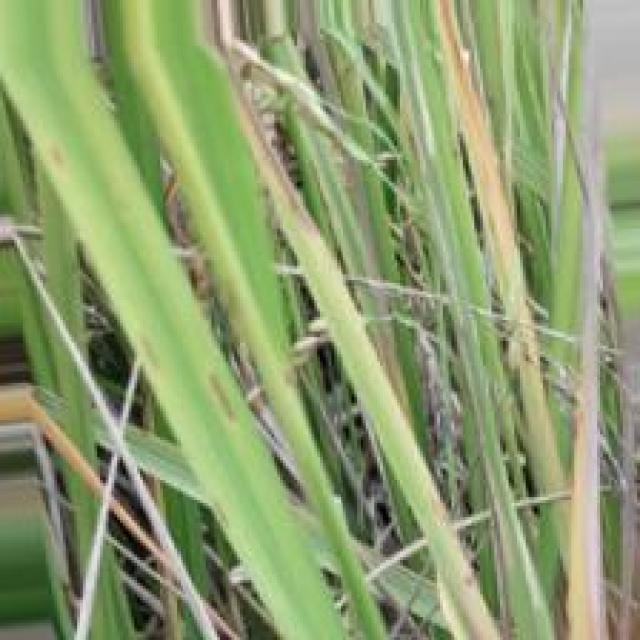Narrow_Brown_Leaf_Spot: (208, 371, 237, 433), (133, 333, 163, 383), (45, 145, 67, 186)
